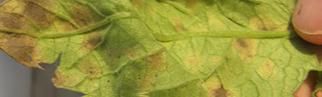Tomato mold leaf: (0, 0, 309, 97)
